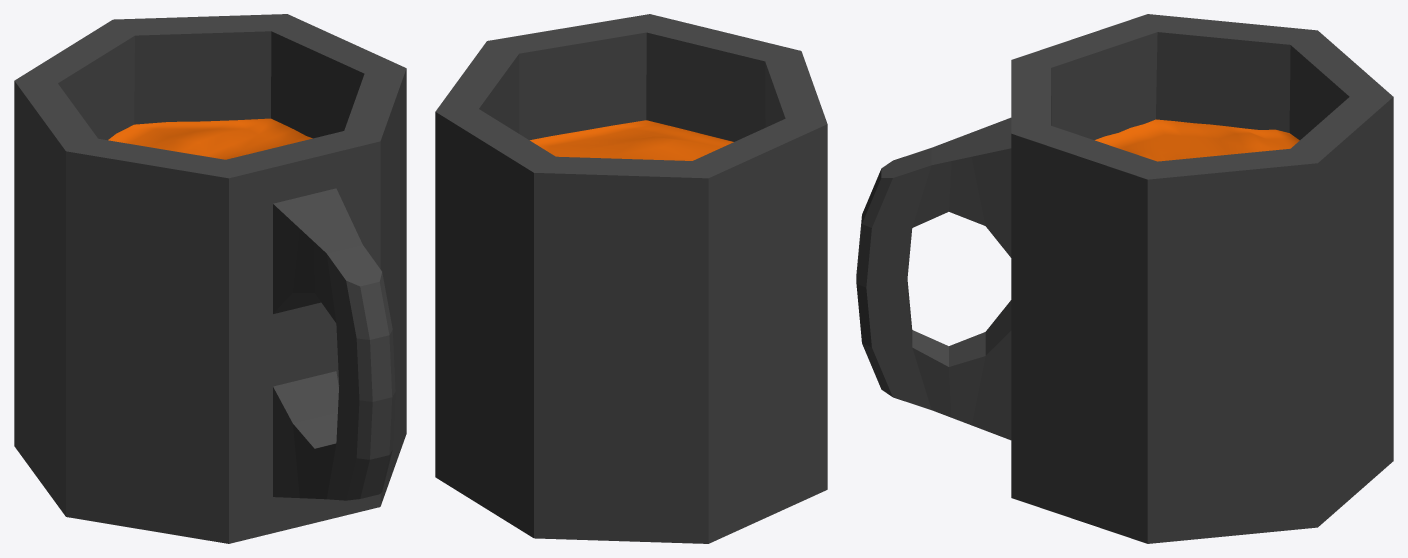
File: Beer.fbx
3 renders of one model, left to right at view 1: azimuth 30°, elevation 25°; view 2: azimuth 150°, elevation 25°; view 3: azimuth 270°, elevation 25°, orthographic.
Visible parts, largest first — view 1: Cylinder; view 2: Cylinder; view 3: Cylinder.
Part boxes in pixels (x1=…): Cylinder: x1=14, y1=14, x2=406, y2=543; Cylinder: x1=435, y1=14, x2=827, y2=543; Cylinder: x1=856, y1=14, x2=1393, y2=543.
Size of the model in its own units: 195 by 200 by 267.
